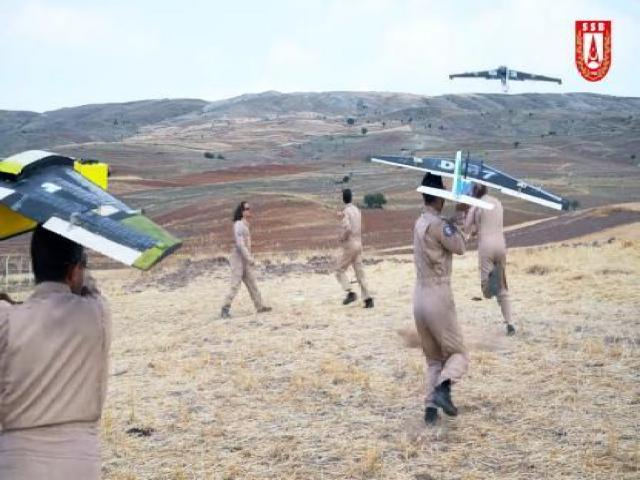uav: (362, 147, 573, 223), (448, 63, 562, 94)
